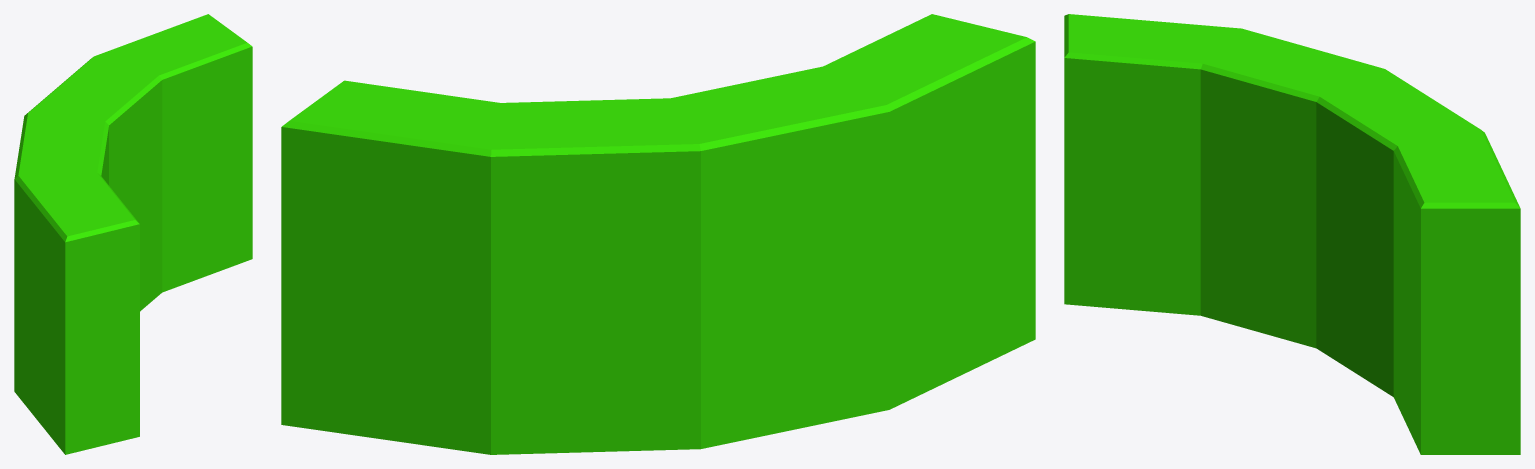
File: round_5x3_01.fbx
3 views of the same model, side by side, from view 1: azimuth 30°, elevation 25°; view 2: azimuth 150°, elevation 25°; view 3: azimuth 270°, elevation 25° (orthographic). The views are drawn at different scales.
Parts seen in each view (by area): view 1: round_5x3_01; view 2: round_5x3_01; view 3: round_5x3_01.
Part boxes in pixels (x1,y1,x2,y2): round_5x3_01: (14, 14, 252, 454); round_5x3_01: (281, 14, 1035, 454); round_5x3_01: (1064, 14, 1520, 454).
Bounding box in the file's own units: 512 × 310 × 512.
